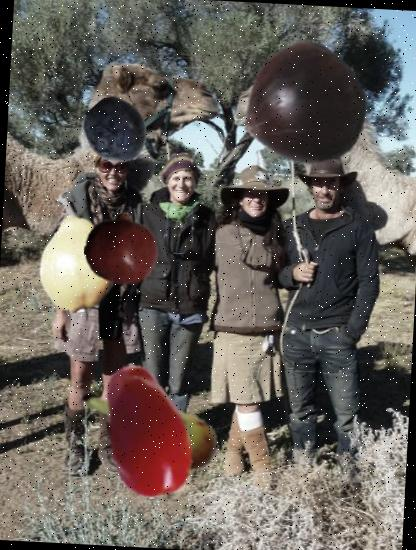Banana: (70, 347, 227, 504)
Blueberry: (81, 96, 152, 166)
Chestnut: (236, 35, 372, 172)
Pomegranate: (82, 210, 160, 288)
Quince: (28, 212, 130, 314)
Tomato: (76, 358, 222, 503)
